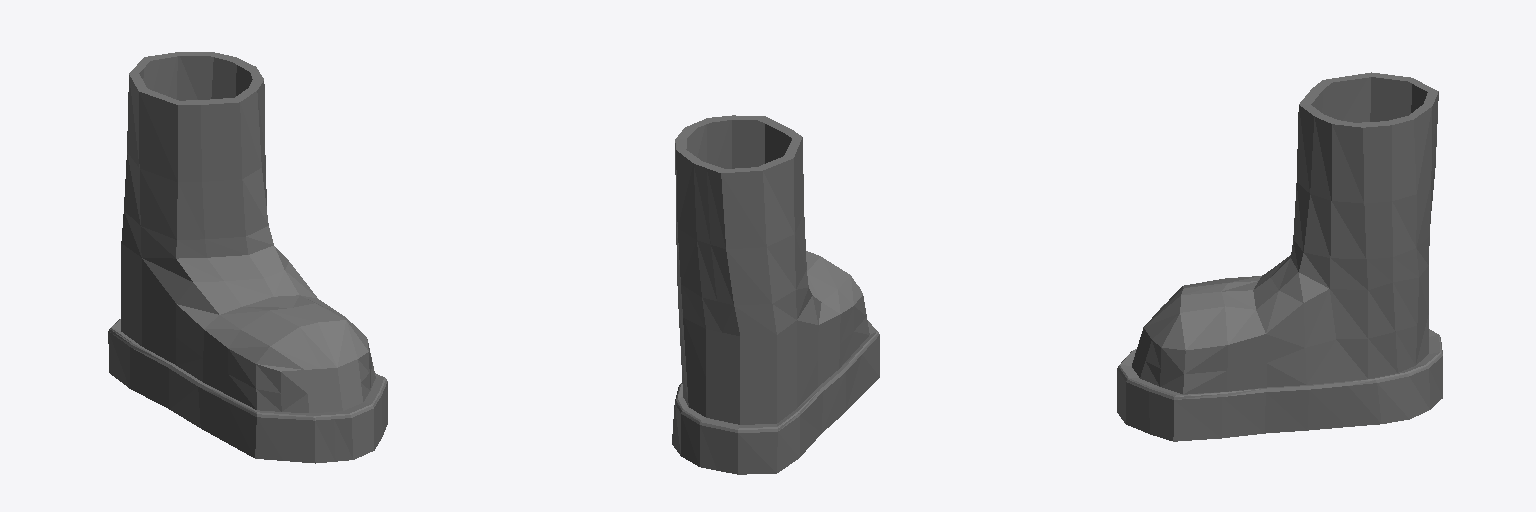
File: Boot.obj
The picture shows the model from 3 angles: view 1: azimuth 30°, elevation 25°; view 2: azimuth 150°, elevation 25°; view 3: azimuth 270°, elevation 25°; orthographic projection.
Visible parts, largest first — view 1: BootL2 BootL3; view 2: BootL2 BootL3; view 3: BootL2 BootL3.
Part boxes in pixels (x1,y1,x2,y2): BootL2 BootL3: (108,52,387,463); BootL2 BootL3: (672,115,879,474); BootL2 BootL3: (1117,72,1442,441).
Size of the model in its own units: 1.21 by 2.18 by 2.17.